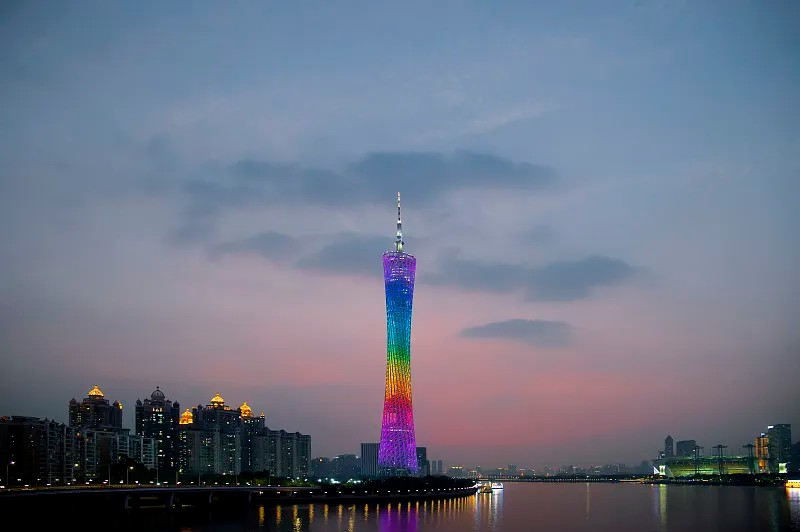Canton: (377, 191, 421, 478)
